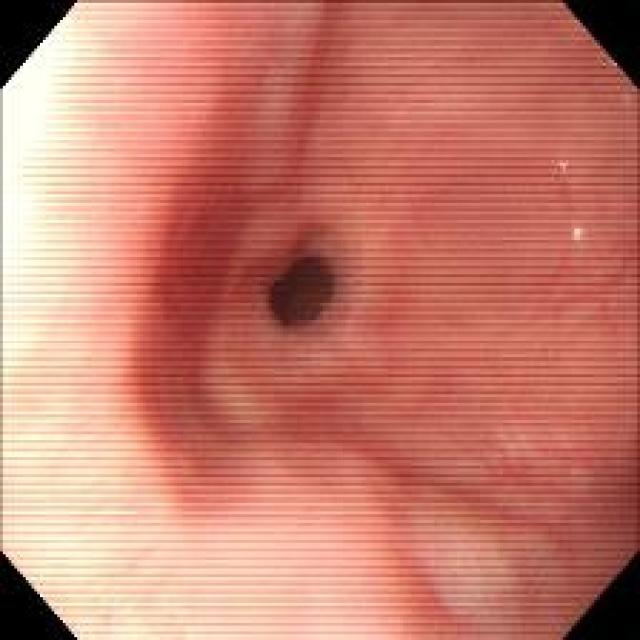contrast: (266, 251, 334, 329)
saturation: (1, 4, 136, 636)
